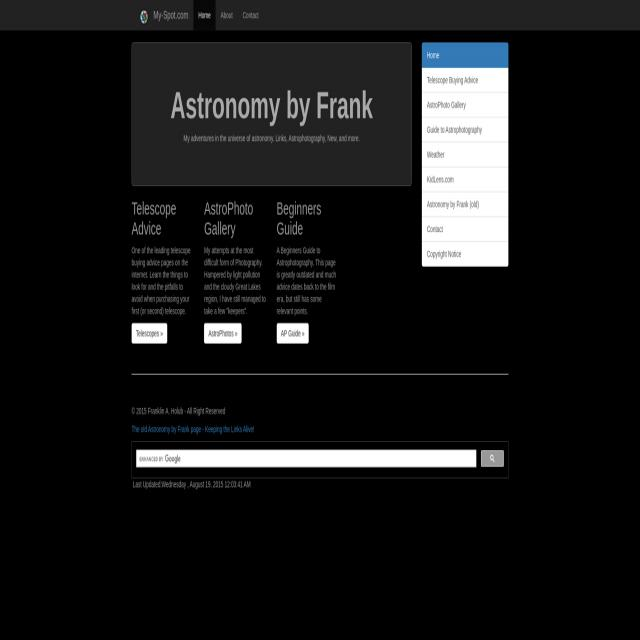button: (421, 67, 508, 93), (422, 92, 508, 118), (422, 216, 508, 242), (422, 241, 508, 267), (422, 42, 508, 68), (422, 117, 508, 142), (422, 142, 508, 167), (422, 167, 508, 192), (422, 192, 508, 217), (148, 0, 193, 30), (237, 0, 263, 30), (204, 324, 242, 344), (132, 324, 167, 344), (193, 0, 215, 30), (216, 0, 238, 30), (277, 324, 309, 344), (482, 451, 504, 467), (140, 9, 148, 25)
field: (137, 450, 476, 468)
